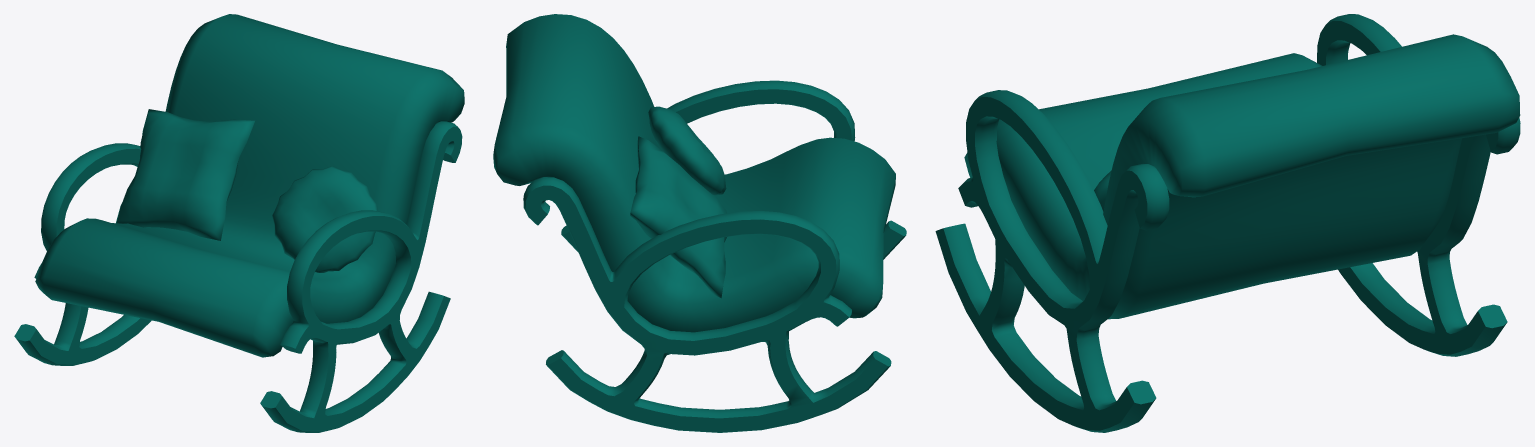
The model's file is armchair.fbx.
3 renders of one model, left to right at view 1: azimuth 30°, elevation 25°; view 2: azimuth 150°, elevation 25°; view 3: azimuth 270°, elevation 25°, orthographic. The views are drawn at different scales.
Visible parts, largest first — view 1: swayingChair, pillowSquare, pillowRound; view 2: swayingChair, pillowSquare, pillowRound; view 3: swayingChair.
Part boxes in pixels (left/top/right/bottom): swayingChair: left=14, top=14, right=464, bottom=432; pillowSquare: left=116, top=109, right=254, bottom=240; pillowRound: left=272, top=166, right=377, bottom=272; swayingChair: left=493, top=14, right=906, bottom=432; pillowSquare: left=630, top=136, right=726, bottom=298; pillowRound: left=648, top=106, right=726, bottom=195; swayingChair: left=935, top=14, right=1520, bottom=432.
Size of the model in its own units: 332 by 219 by 309.
